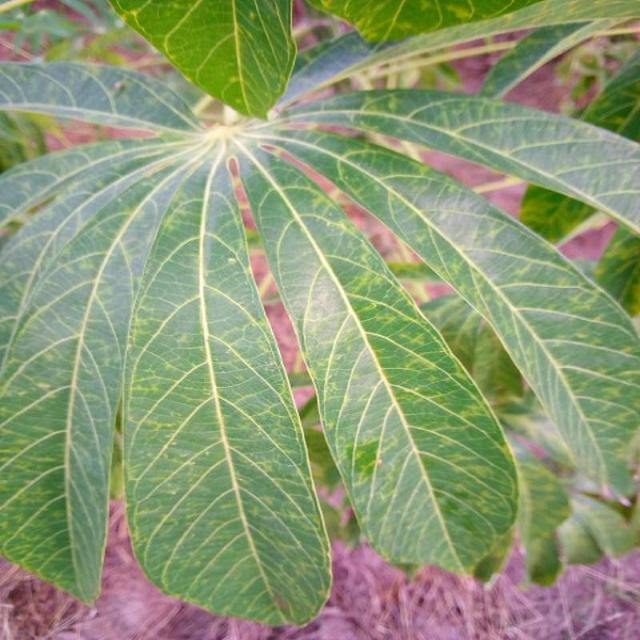cassava leaf: (0, 2, 638, 627), (234, 142, 521, 584), (120, 144, 334, 627), (105, 0, 298, 121)
